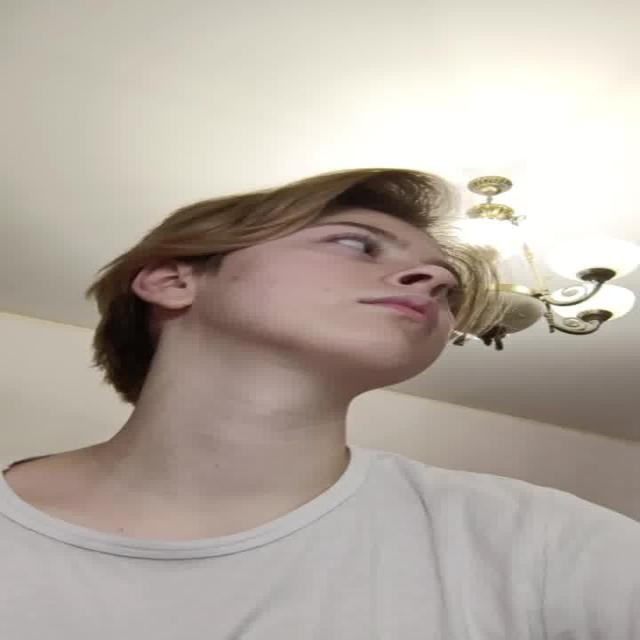earlobe: (134, 256, 193, 310)
